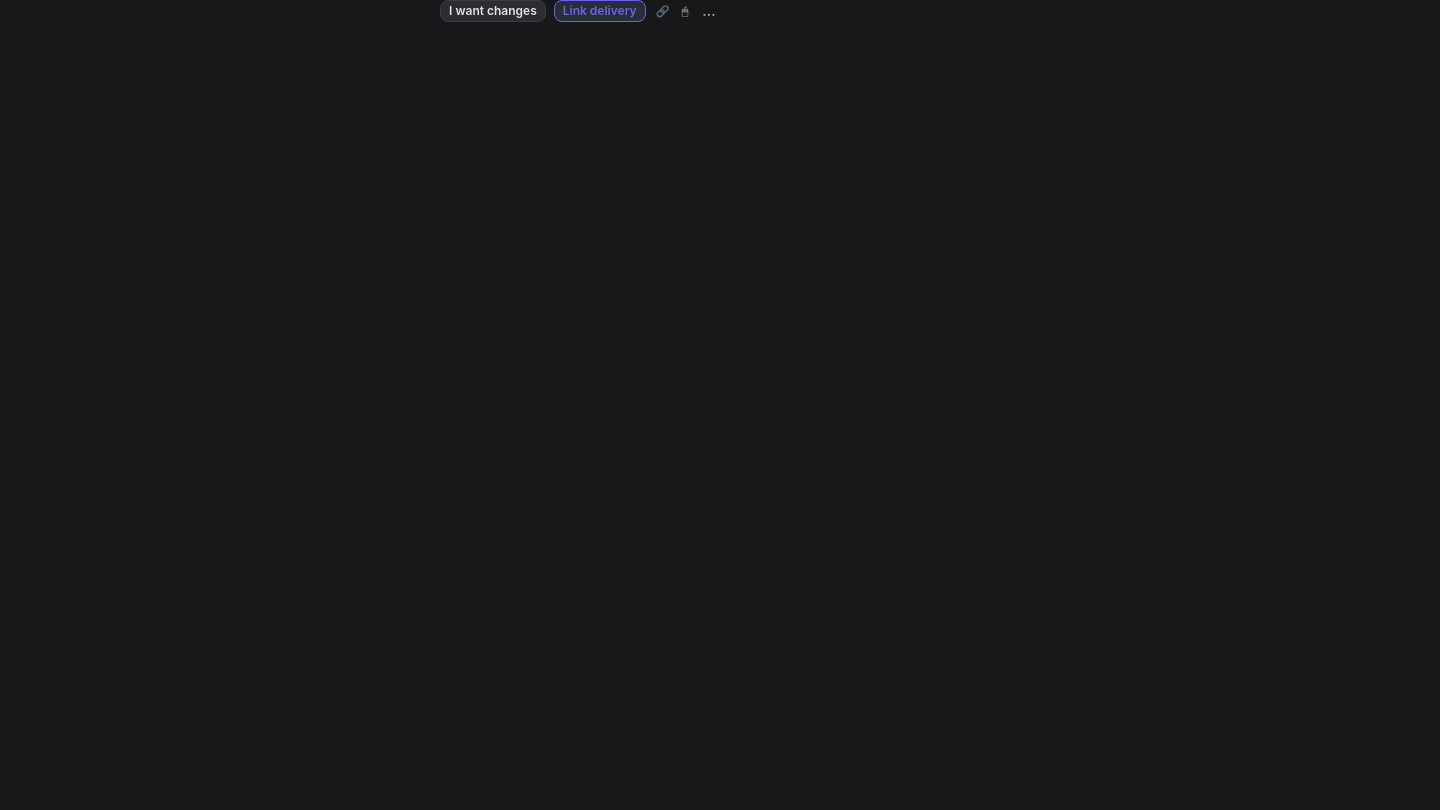
it: IntentTitleBarActions.vue — 「…」溢出菜单 › 取消确认敞开期间转入 cancelled 时收框且不放行
Click the button with test id "intent-detail-more" at (709, 11), box [698,0,720,22]
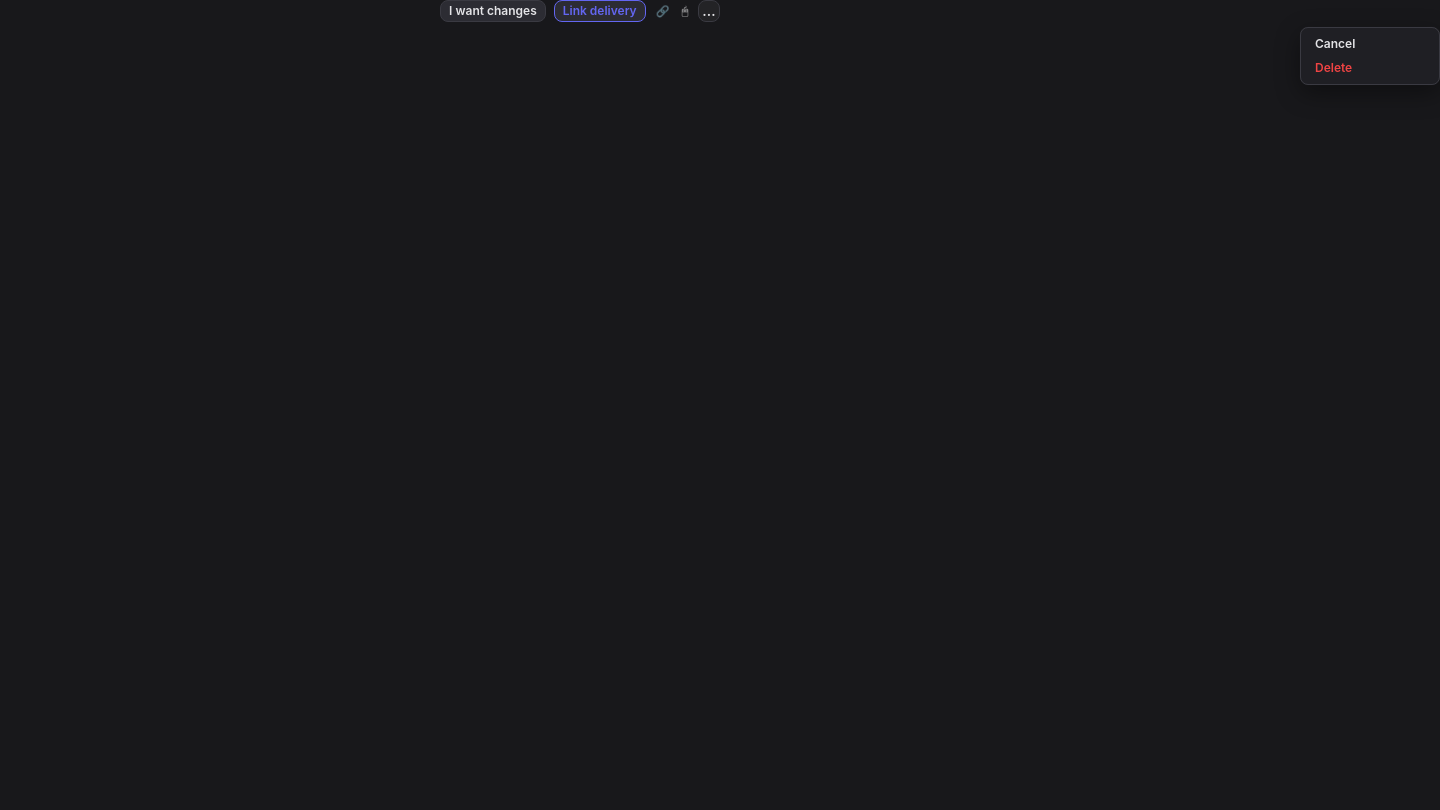
Click the button with test id "intent-detail-cancel" at (1370, 44), box [1305,32,1435,56]
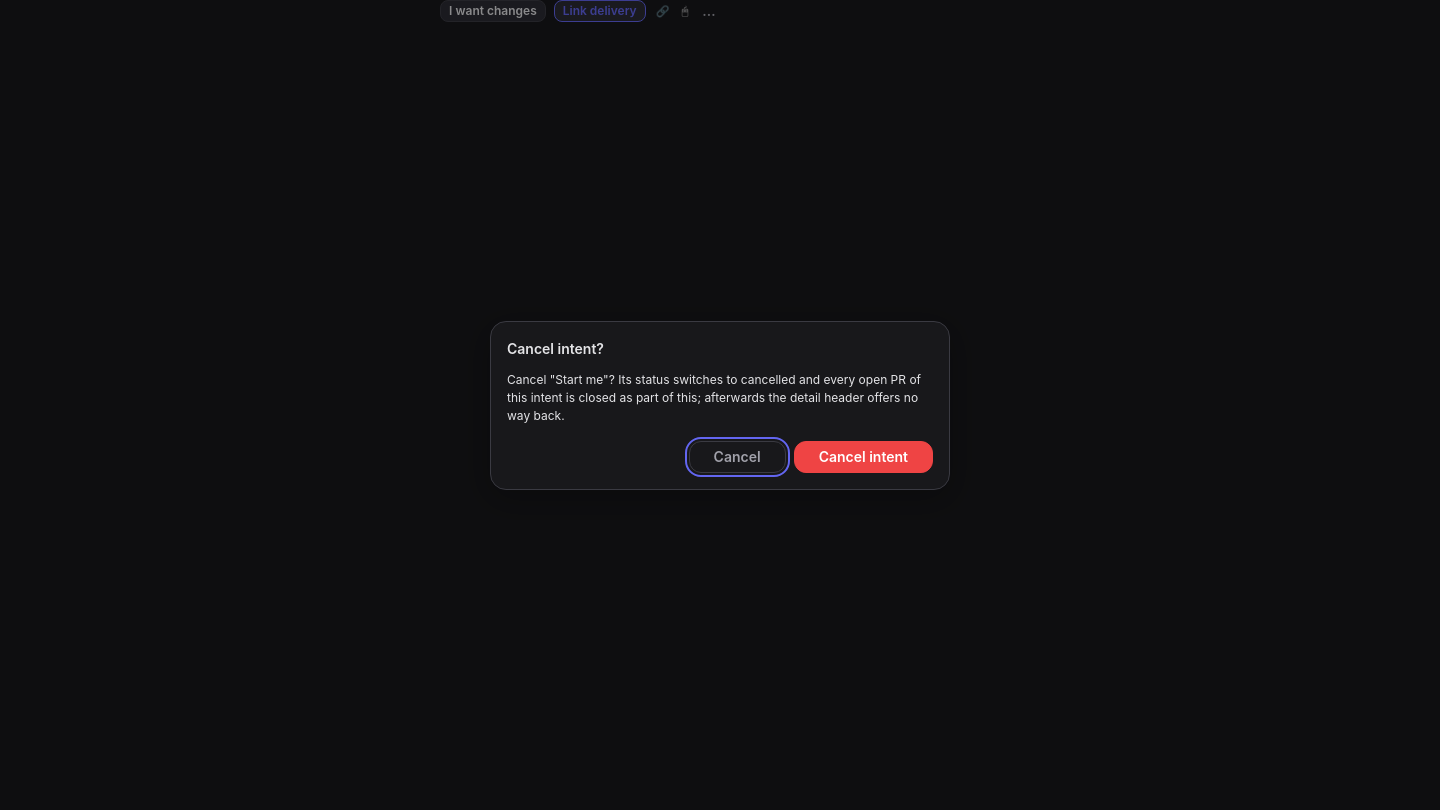
Expected: the dialog is shown, [490,320,950,490]
